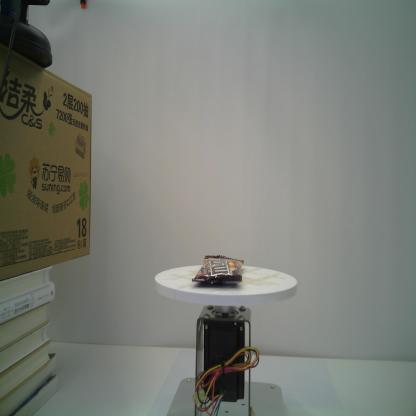Chocolate: (191, 255, 244, 285)
